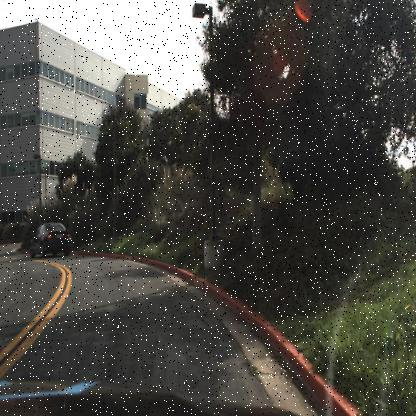car: (27, 219, 70, 260)
